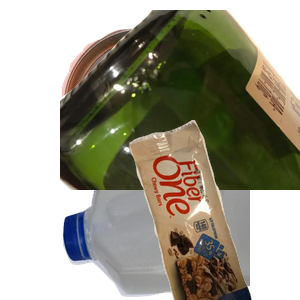glass: (60, 10, 300, 190)
metal: (59, 10, 273, 189)
plastic: (60, 135, 300, 300)
trash: (127, 120, 300, 300)
